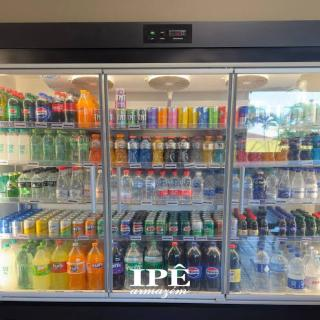Drinks: (268, 248, 290, 291), (250, 244, 270, 288), (288, 250, 306, 290), (50, 168, 72, 200), (244, 172, 259, 200), (144, 169, 157, 200), (191, 172, 205, 198), (32, 169, 44, 199)
beverage: (83, 242, 104, 292), (51, 241, 69, 294), (202, 243, 222, 289), (68, 242, 87, 290), (58, 89, 79, 124), (29, 90, 49, 123), (16, 92, 36, 122), (47, 89, 64, 122), (34, 219, 50, 236), (119, 218, 132, 236), (72, 219, 85, 237), (203, 218, 214, 236), (144, 220, 156, 236), (180, 220, 192, 235), (168, 222, 180, 235)
